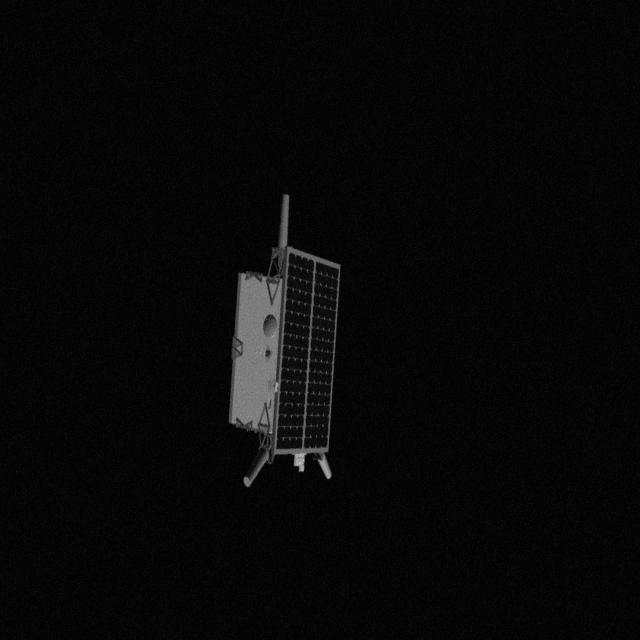satellite: (222, 182, 354, 500)
